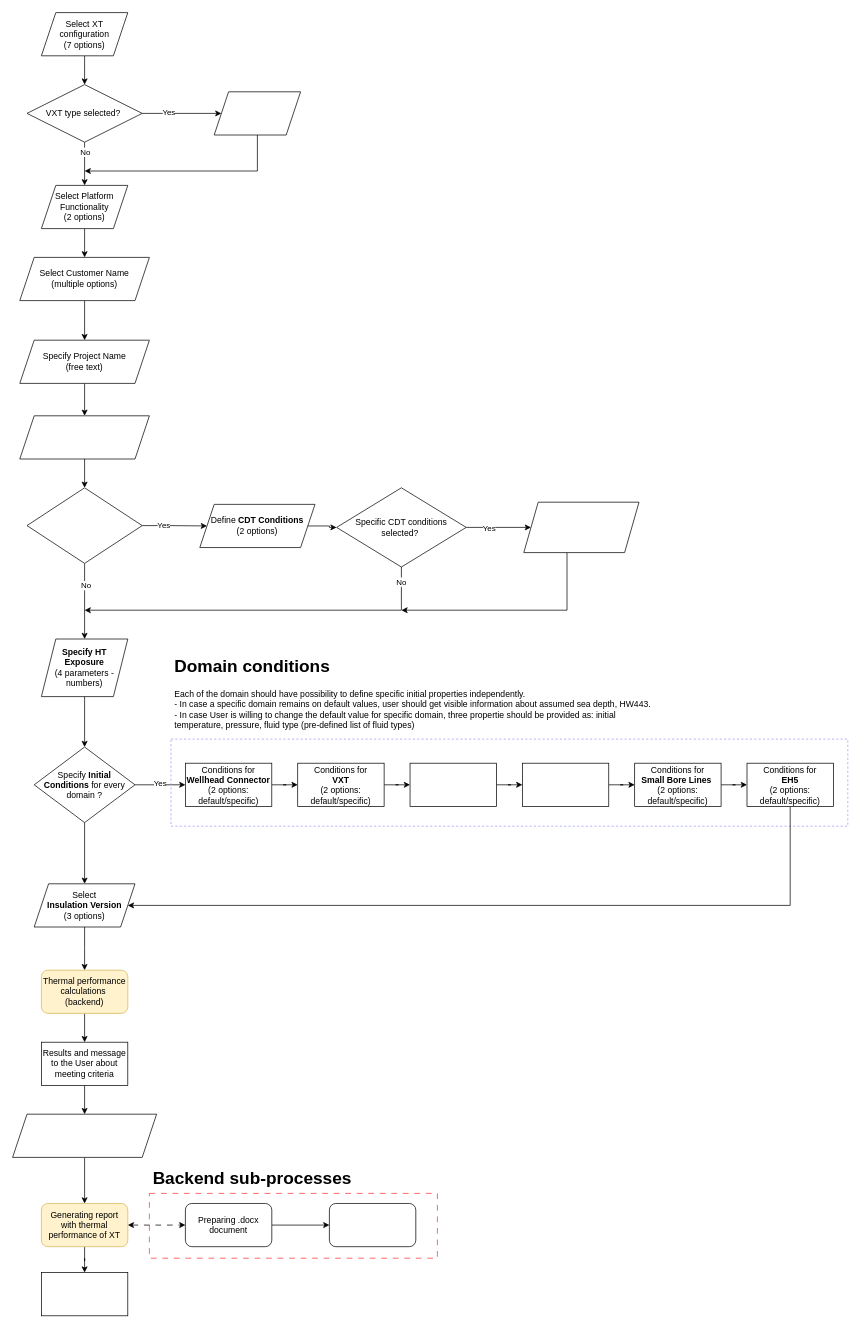
The diagram is 860 pixels wide and 1328 high, and some of its shapes have lost their labels. The shapes that lost their labels are listed below. From the top down, each one's centre as x and y in pixels, then its label:
(257,113): Select Wellhead Option (2 options)
(84,437): Select if Flow Assurance Engineer is involved (2 options Yes/No)
(84,525): Is Cooldown Time Requirement present?
(581,527): Define (5 parameters - numbers)
(452,784): Conditions for Tree Cap (2 options: default/specific)
(565,784): Conditions for AWB (2 options: default/specific)
(84,1135): Select sections for the report generator (multiple selection)
(372,1225): Store generated document in the database
(84,1294): Download generated report
